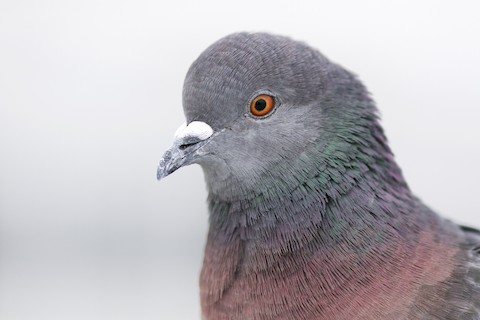pigeon: (144, 23, 475, 313)
